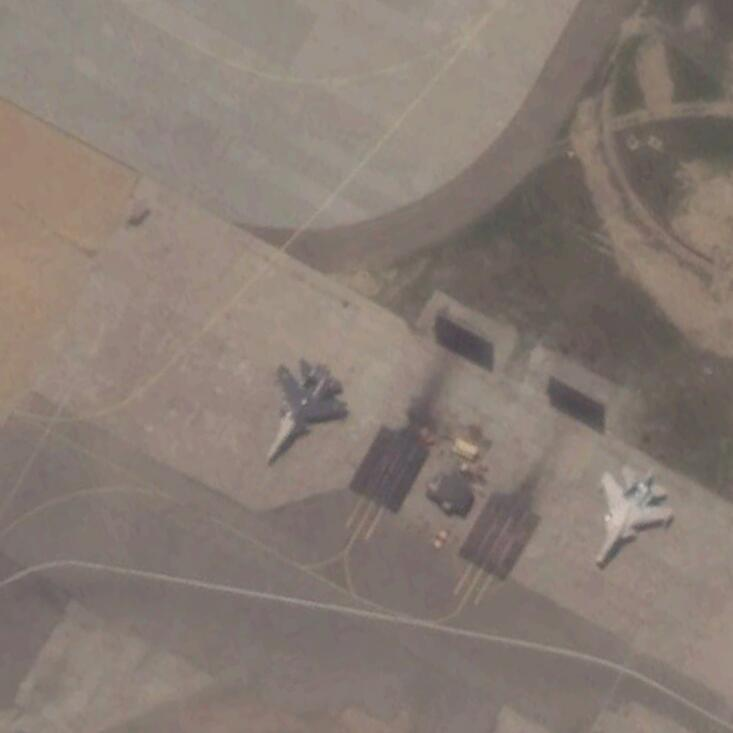A19: (261, 357, 349, 465), (591, 462, 678, 568)
